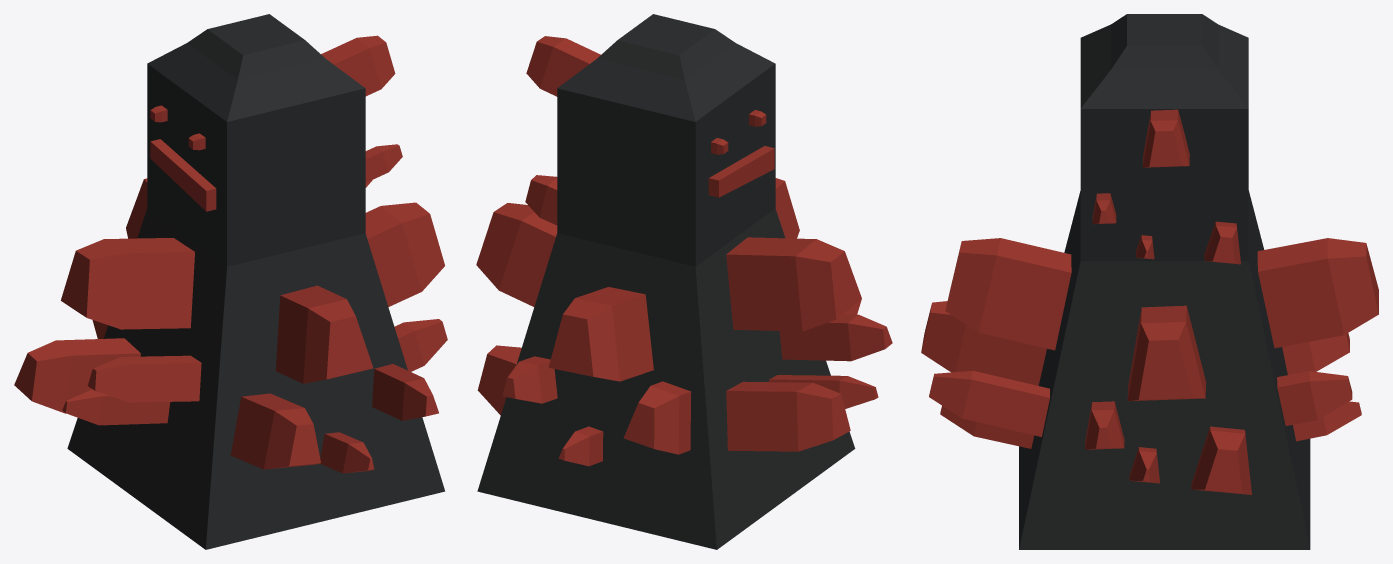
File: Krab3.fbx
3 views of the same model, side by side, from view 1: azimuth 30°, elevation 25°; view 2: azimuth 150°, elevation 25°; view 3: azimuth 270°, elevation 25° (orthographic). The views are drawn at different scales.
Parts seen in each view (by area): view 1: Cube.042; view 2: Cube.042; view 3: Cube.042.
Part boxes in pixels (left/top/right/bottom): Cube.042: left=14, top=14, right=447, bottom=549; Cube.042: left=476, top=14, right=892, bottom=549; Cube.042: left=921, top=14, right=1378, bottom=549.
Bounding box in the file's own units: 1.06 × 1.15 × 1.04.
